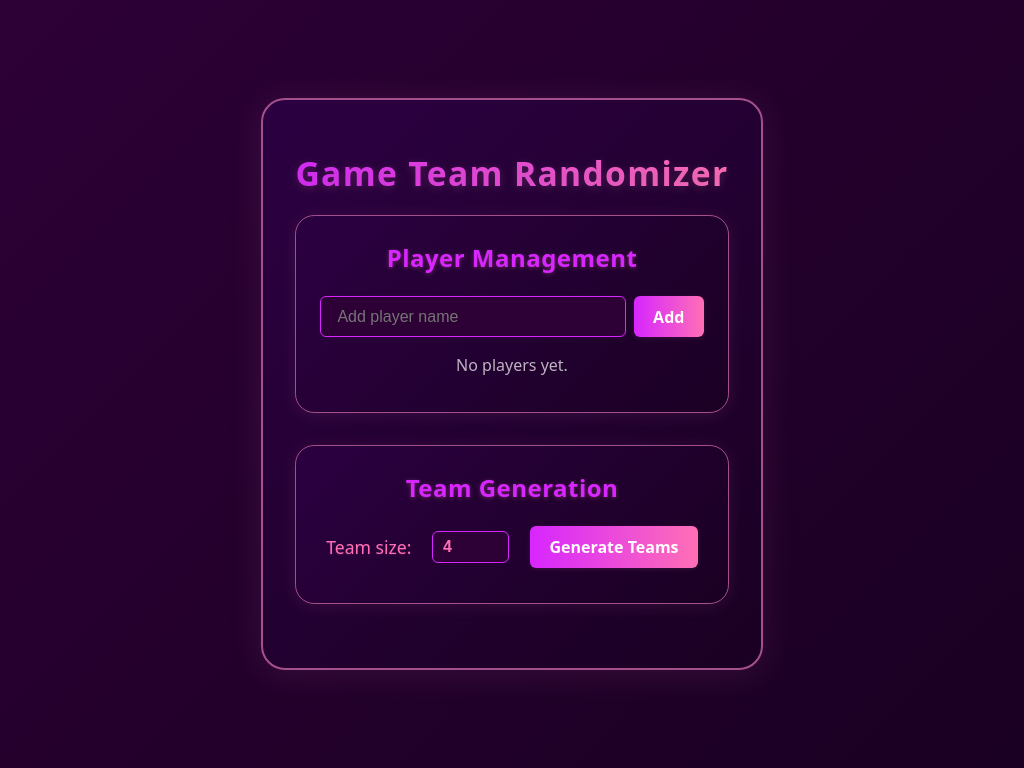
Test case: Game Team Randomizer - Unit Tests › Team Generation Logic › can generate basic teams
The width and height of the screenshot is (1024, 768).
Add players
Type "Alice" into the field with placeholder "Add player name" at (473, 317), box [320,296,626,337]
Press Enter in the field with placeholder "Add player name", box [320,296,626,337]
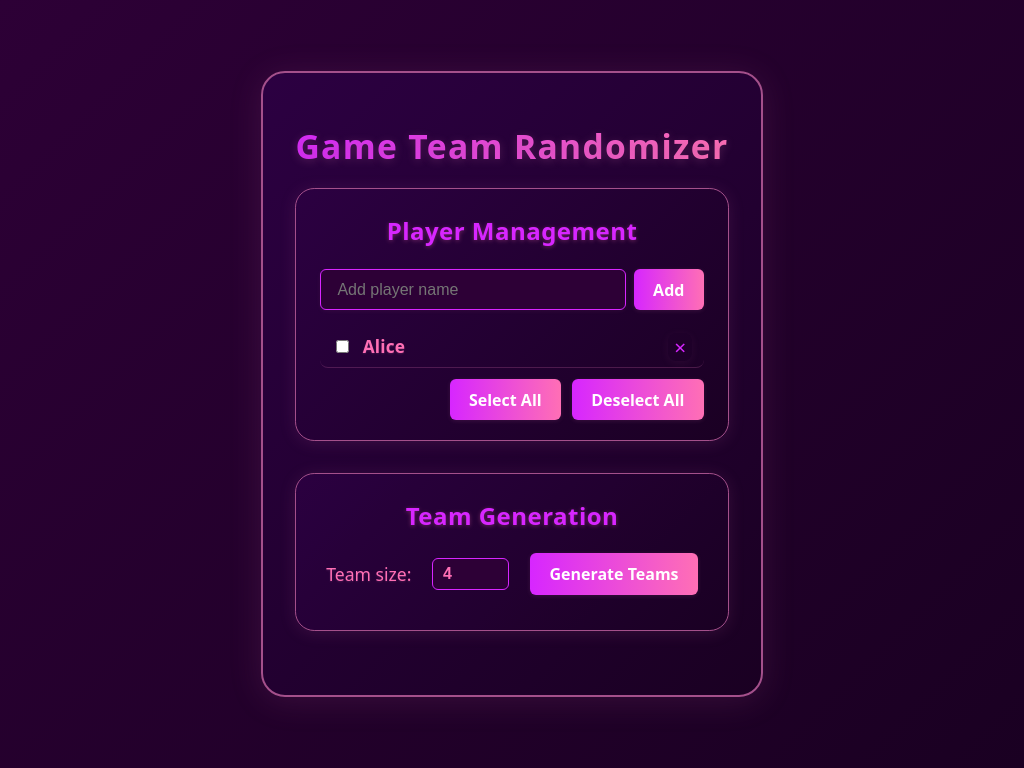
Type "Bob" into the field with placeholder "Add player name" at (473, 290), box [320,269,626,310]
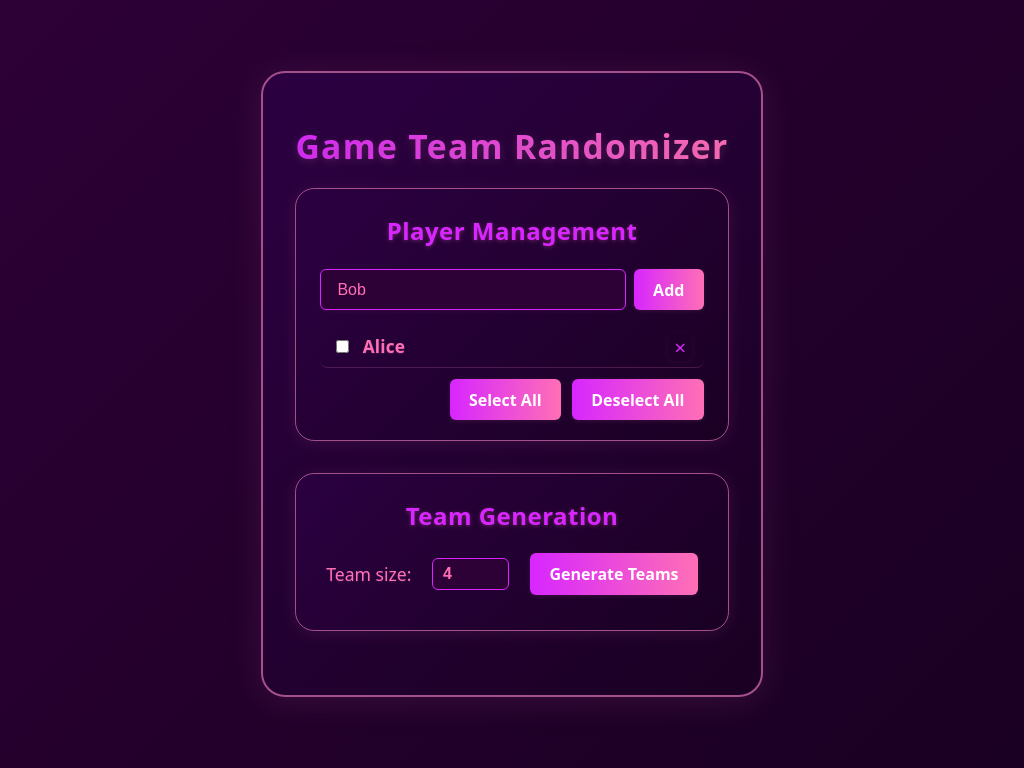
Press Enter in the field with placeholder "Add player name", box [320,269,626,310]
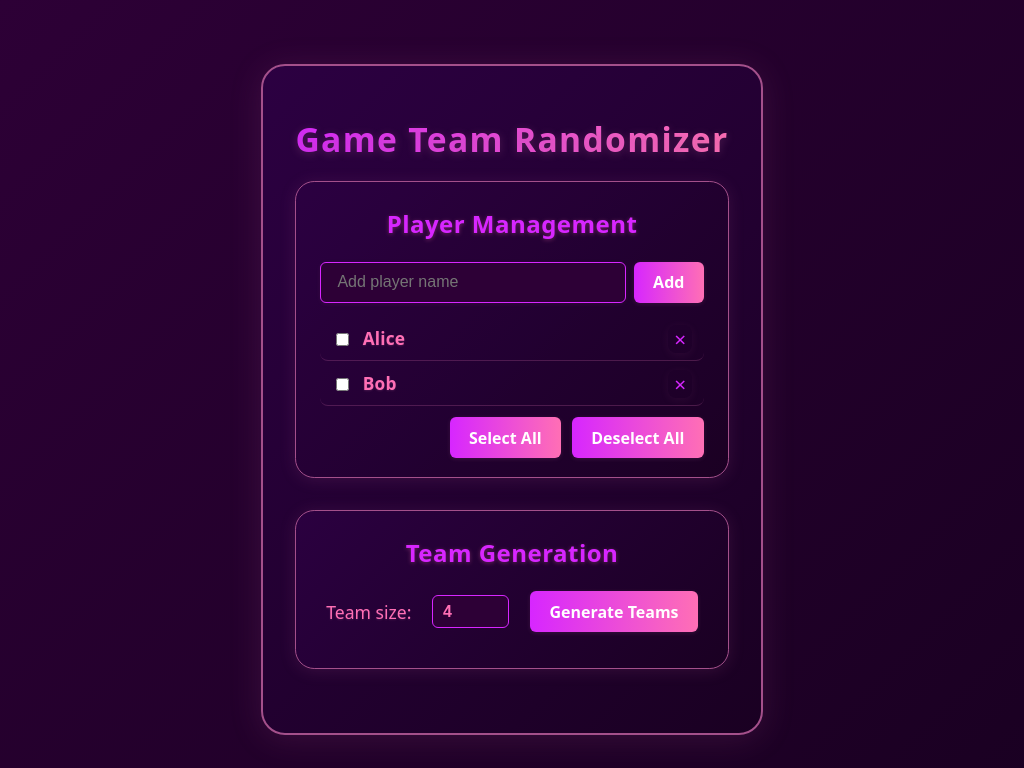
Select players
Click the checkbox labelled "Alice" at (342, 339), box [336,333,349,346]
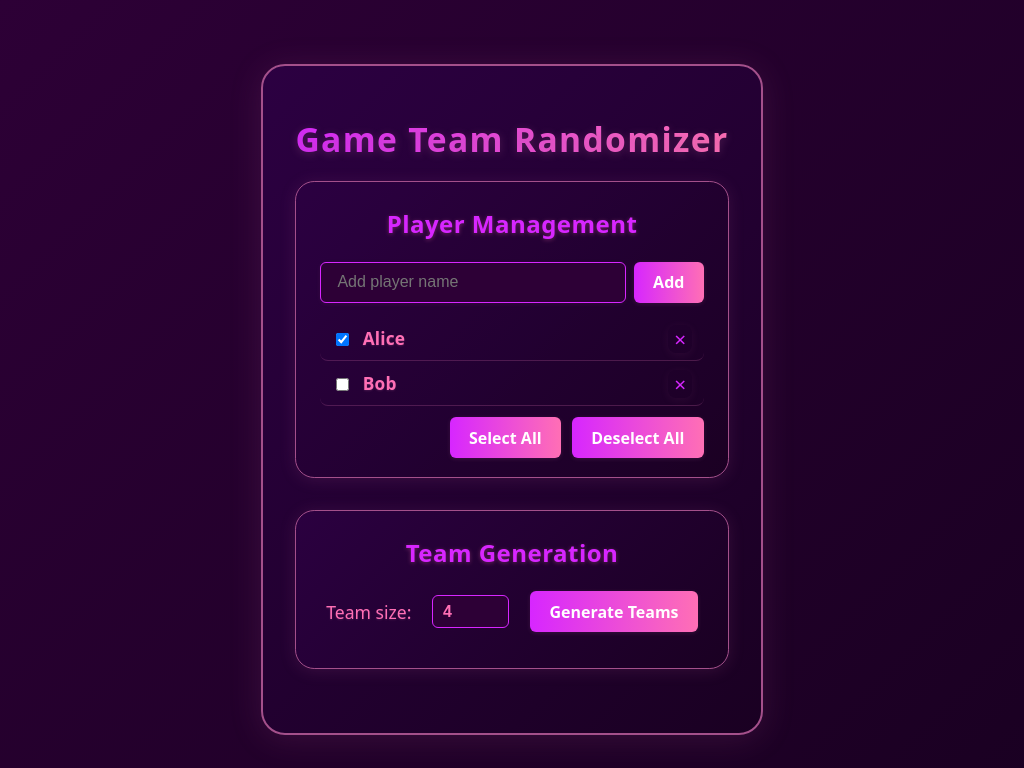
Click the checkbox labelled "Bob" at (342, 384), box [336,378,349,391]
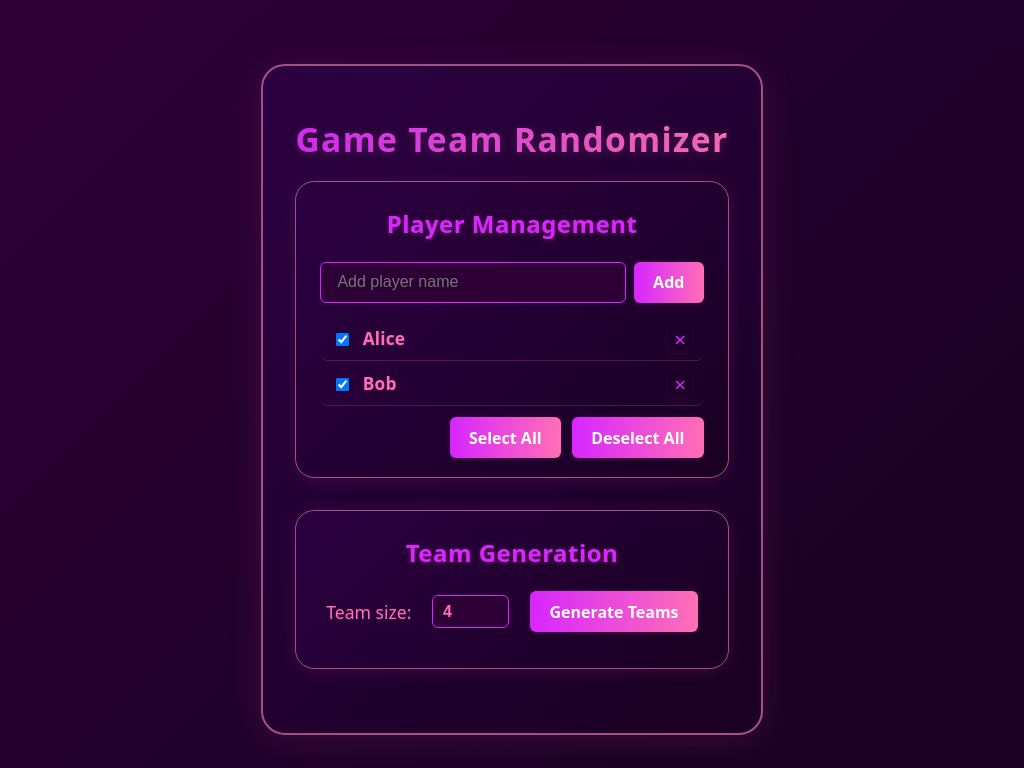
Generate teams
Click the button "Generate Teams" at (614, 612), box [530,591,698,632]
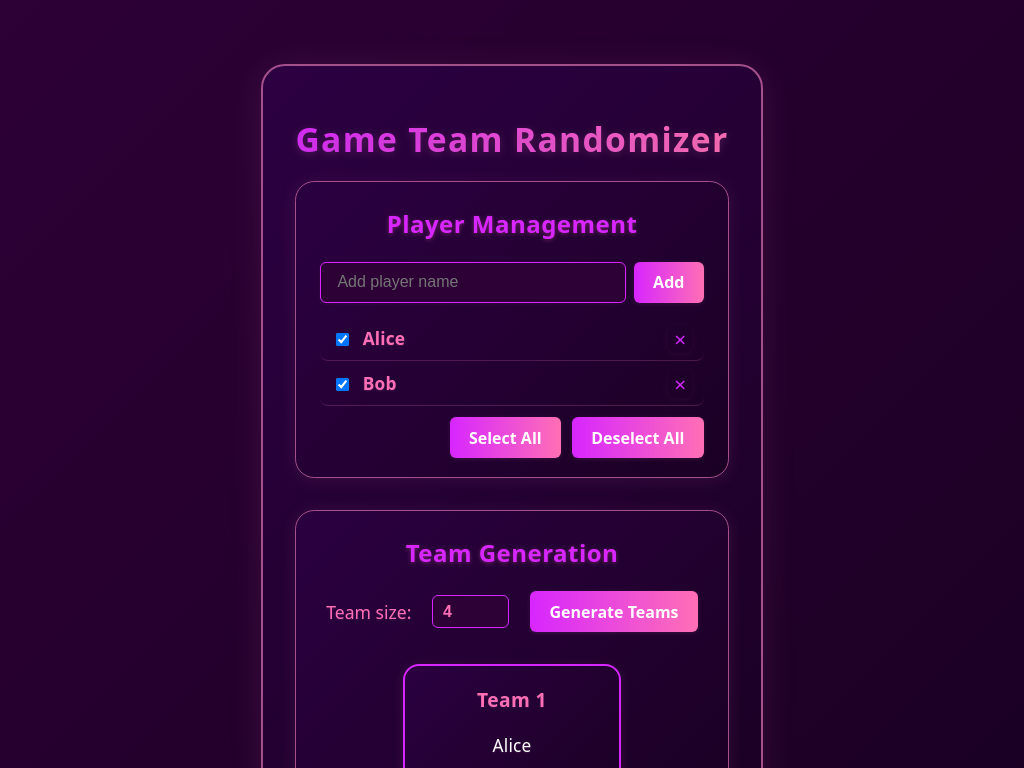
Check: the heading "Team 1" is shown, box [477,686,547,713]
